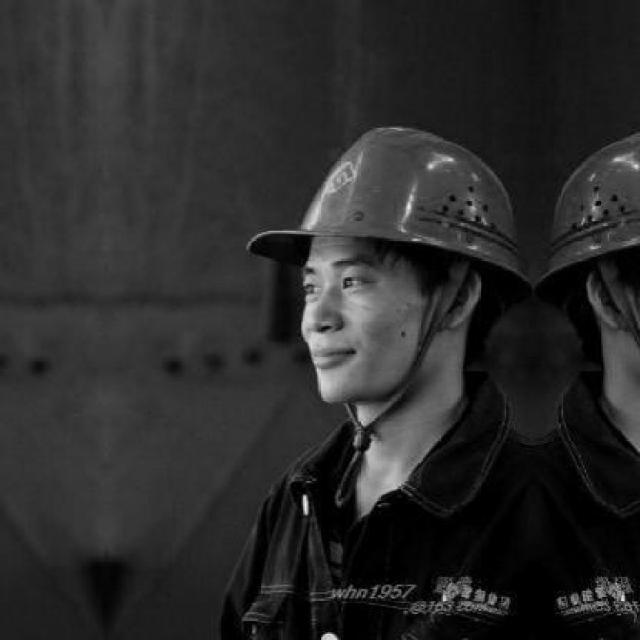hat: (246, 105, 531, 442), (534, 103, 637, 442)
